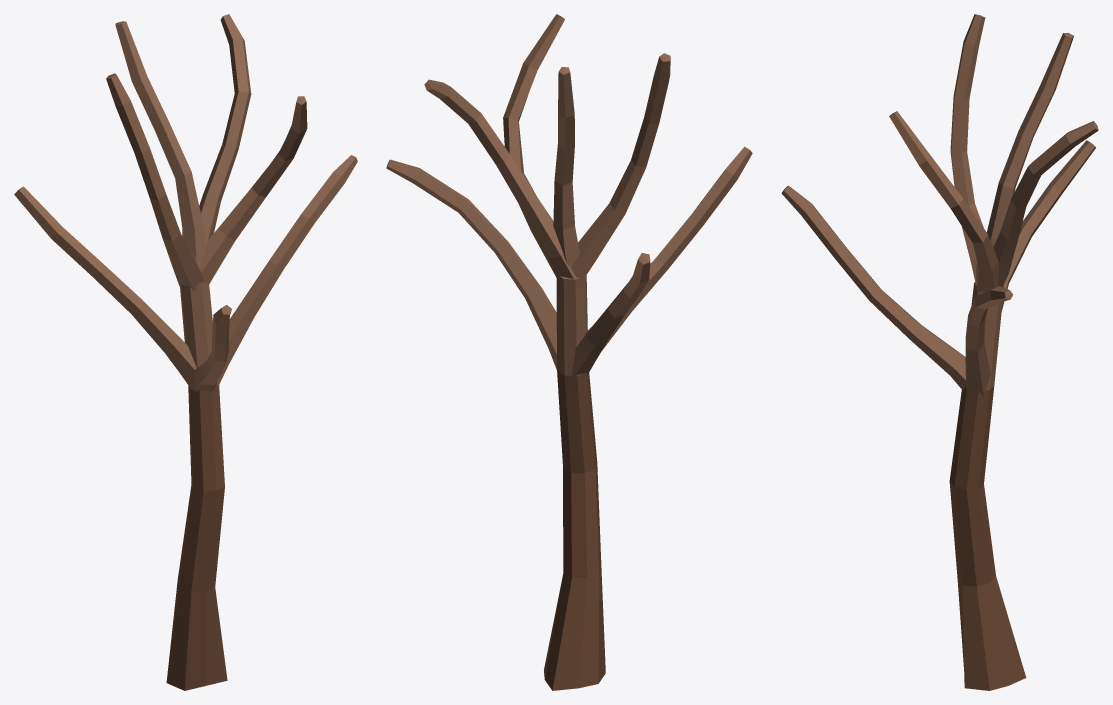
The model's file is naked_tree_9.fbx.
3 renders of one model, left to right at view 1: azimuth 30°, elevation 25°; view 2: azimuth 150°, elevation 25°; view 3: azimuth 270°, elevation 25°, orthographic. The views are drawn at different scales.
Visible parts, largest first — view 1: naked_tree_9; view 2: naked_tree_9; view 3: naked_tree_9.
Boxes of the visible parts, <box> form: naked_tree_9: <box>14,14,357,690</box>; naked_tree_9: <box>386,14,752,690</box>; naked_tree_9: <box>781,14,1098,690</box>.
Bounding box in the file's own units: 330 × 665 × 305.
